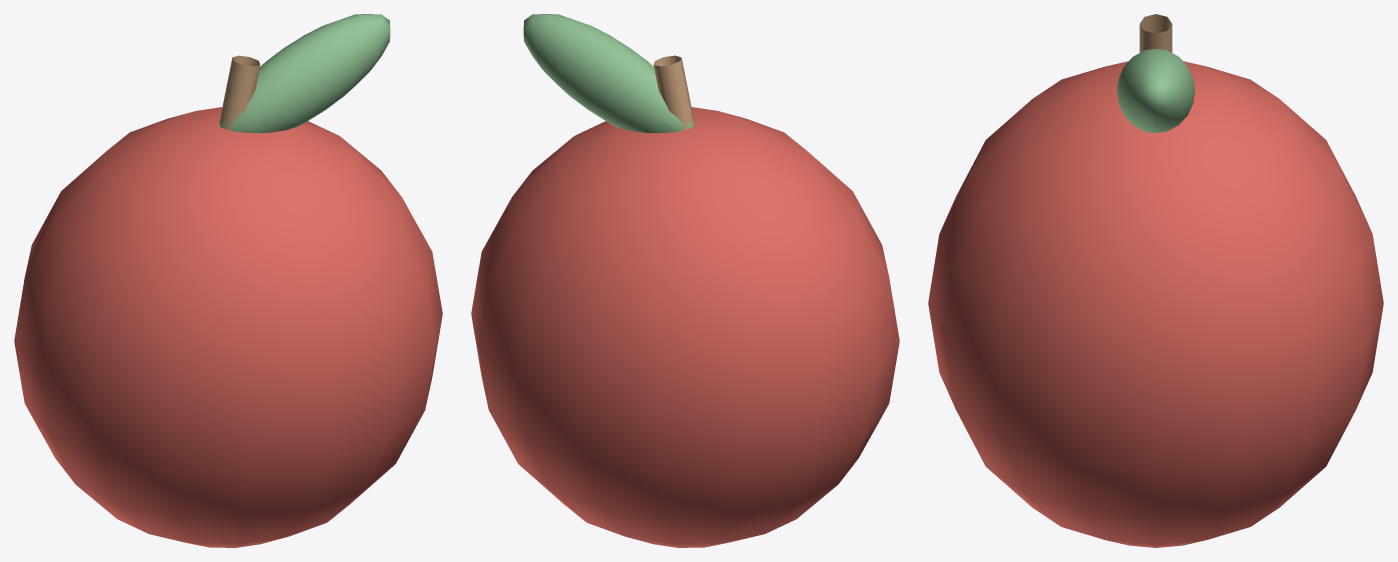
File: word-apple.glb
The picture shows the model from 3 angles, left to right: view 1: azimuth 30°, elevation 25°; view 2: azimuth 150°, elevation 25°; view 3: azimuth 270°, elevation 25°; orthographic projection. The views are drawn at different scales.
Visible parts, largest first — view 1: apple, fruit leaf, fruit stem; view 2: apple, fruit leaf, fruit stem; view 3: apple, fruit leaf, fruit stem.
Part boxes in pixels (x1,y1,x2,y2): apple: (14,107,442,547); fruit leaf: (220,14,390,133); fruit stem: (219,55,260,130); apple: (471,107,899,547); fruit leaf: (523,14,693,133); fruit stem: (653,55,694,130); apple: (928,61,1383,547); fruit leaf: (1117,48,1194,132); fruit stem: (1139,14,1172,52).
Size of the model in its own units: 0.74 by 0.9019 by 0.7.
